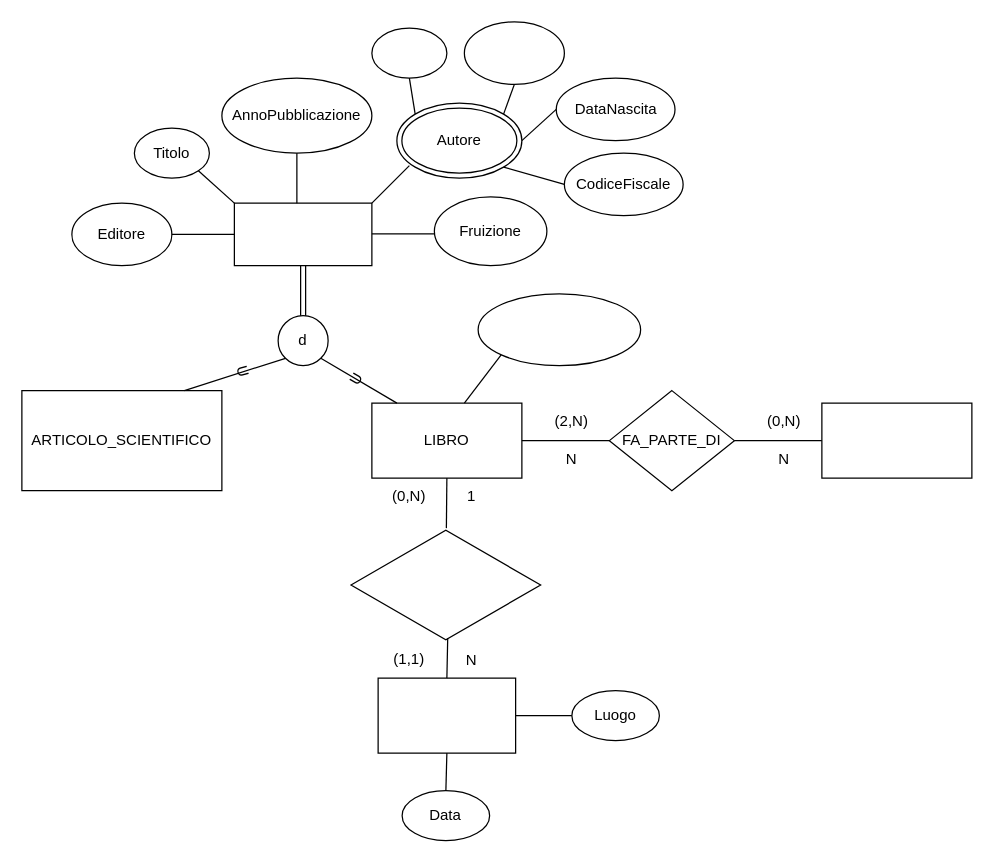
This 994x863 diagram has some shape labels left out. The box of each missing label's shape, as (x1, y1, x2, y2) in pixels:
Cognome: (463, 21, 564, 84)
COLLANA: (821, 402, 972, 478)
DataPubblicazione: (477, 292, 641, 366)
ELEMENTO: (233, 202, 372, 266)
Nome: (371, 27, 447, 78)
PARTECIPAZIONE: (350, 527, 541, 642)
PRESENTAZIONE: (377, 677, 516, 753)
